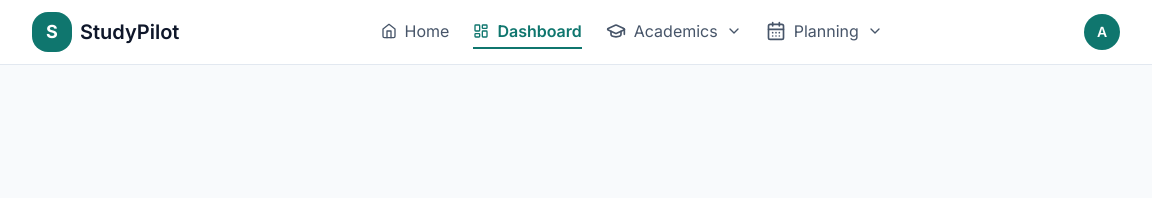
Test case: Header desktop grouped navigation (EP11A) › opens the Academics menu on click with menu semantics
Click the button with aria-label "Academics menu" at (674, 32), box [606,15,742,49]
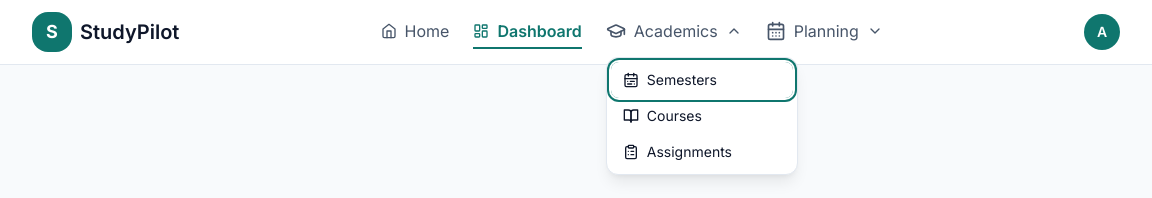
Check: the button with aria-label "Academics menu" is expanded, box [606,15,742,49]
